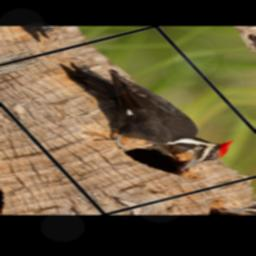Woodpecker: (27, 42, 249, 184)
